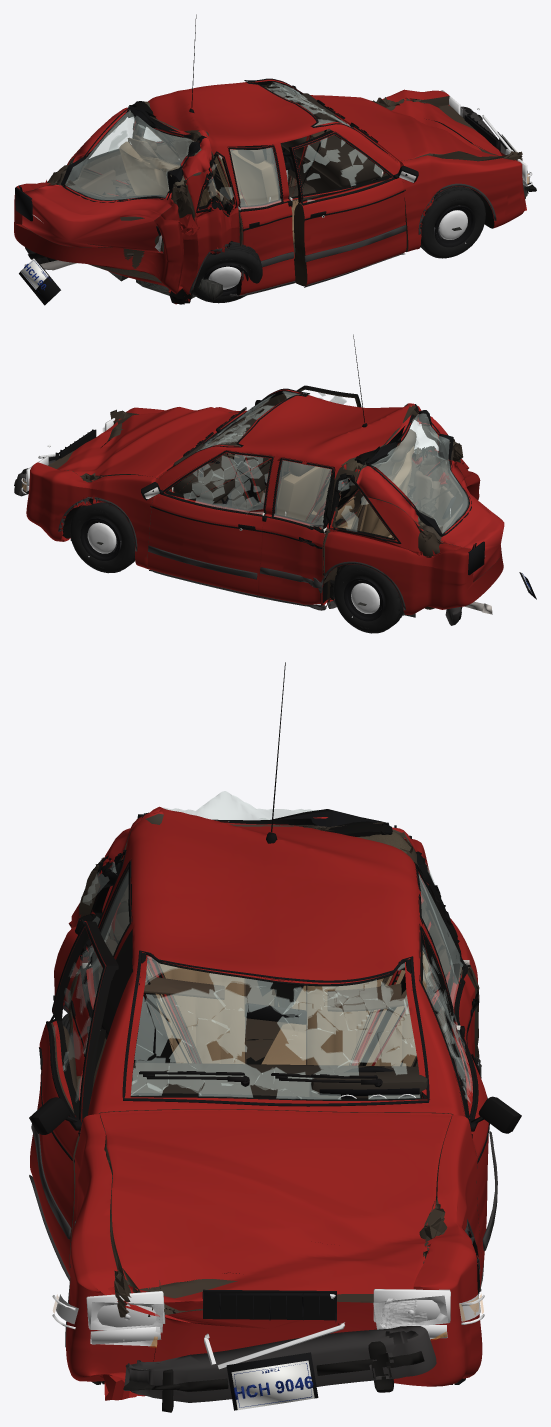
File: hatchback85_rear_corner_R_d2_lod1.glb
The picture shows the model from 3 angles, top to bottom: view 1: azimuth 30°, elevation 25°; view 2: azimuth 150°, elevation 25°; view 3: azimuth 270°, elevation 25°; orthographic projection. The views are drawn at different scales.
Parts seen in each view (by area): view 1: Body, Interior, Hatch, Door_FR, Glass_Hatch, Hood, Door_RR, Wheel_FR_mesh, Ends, Glass_RR, Wheel_RR_mesh, Trim_FR (+6 smaller); view 2: Body, Interior, Door_FL, Hood, Glass_Hatch, Hatch, Door_RL, Wheel_FL_mesh, Wheel_RL_mesh, Glass_RL, Glass_FL, Trim_FL (+5 smaller); view 3: Body, Hood, Glass, Interior, Ends, Bumper_F, Door_FR, Trim_FR, Door_FL, Trim, Trim_FL, Glass_Hatch (+10 smaller).
Part boxes in pixels (box(x1,y1,x2,y2)): Body: box(14, 79, 526, 304); Interior: box(81, 86, 383, 257); Hatch: box(22, 104, 212, 253); Door_FR: box(288, 130, 406, 286); Glass_Hatch: box(61, 105, 206, 202); Hood: box(312, 96, 505, 162); Door_RR: box(227, 144, 295, 295); Wheel_FR_mesh: box(420, 186, 485, 258); Ends: box(15, 90, 532, 305); Glass_RR: box(230, 148, 283, 209); Wheel_RR_mesh: box(192, 242, 262, 303); Trim_FR: box(292, 132, 418, 287); Body: box(26, 389, 503, 614); Interior: box(173, 397, 453, 538); Door_FL: box(147, 450, 274, 595); Hood: box(57, 407, 243, 478); Glass_Hatch: box(365, 404, 471, 536); Hatch: box(356, 403, 504, 581); Door_RL: box(258, 457, 334, 605); Wheel_FL_mesh: box(70, 502, 135, 573); Wheel_RL_mesh: box(333, 564, 403, 633); Glass_RL: box(271, 460, 333, 533); Glass_FL: box(165, 451, 274, 515); Trim_FL: box(141, 450, 273, 597); Body: box(54, 806, 482, 1400); Hood: box(99, 1109, 452, 1310); Glass: box(75, 851, 459, 1106); Interior: box(131, 951, 429, 1098); Ends: box(52, 825, 484, 1410); Bumper_F: box(123, 1326, 436, 1412); Door_FR: box(30, 921, 118, 1276); Trim_FR: box(29, 922, 105, 1281); Door_FL: box(419, 924, 488, 1277); Trim: box(53, 662, 480, 1347); Trim_FL: box(420, 925, 521, 1291); Glass_Hatch: box(137, 791, 388, 826).
Bounding box in the file's own units: 4.4 × 2.21 × 1.92.
Materials: 33 (5 with a texture image).
